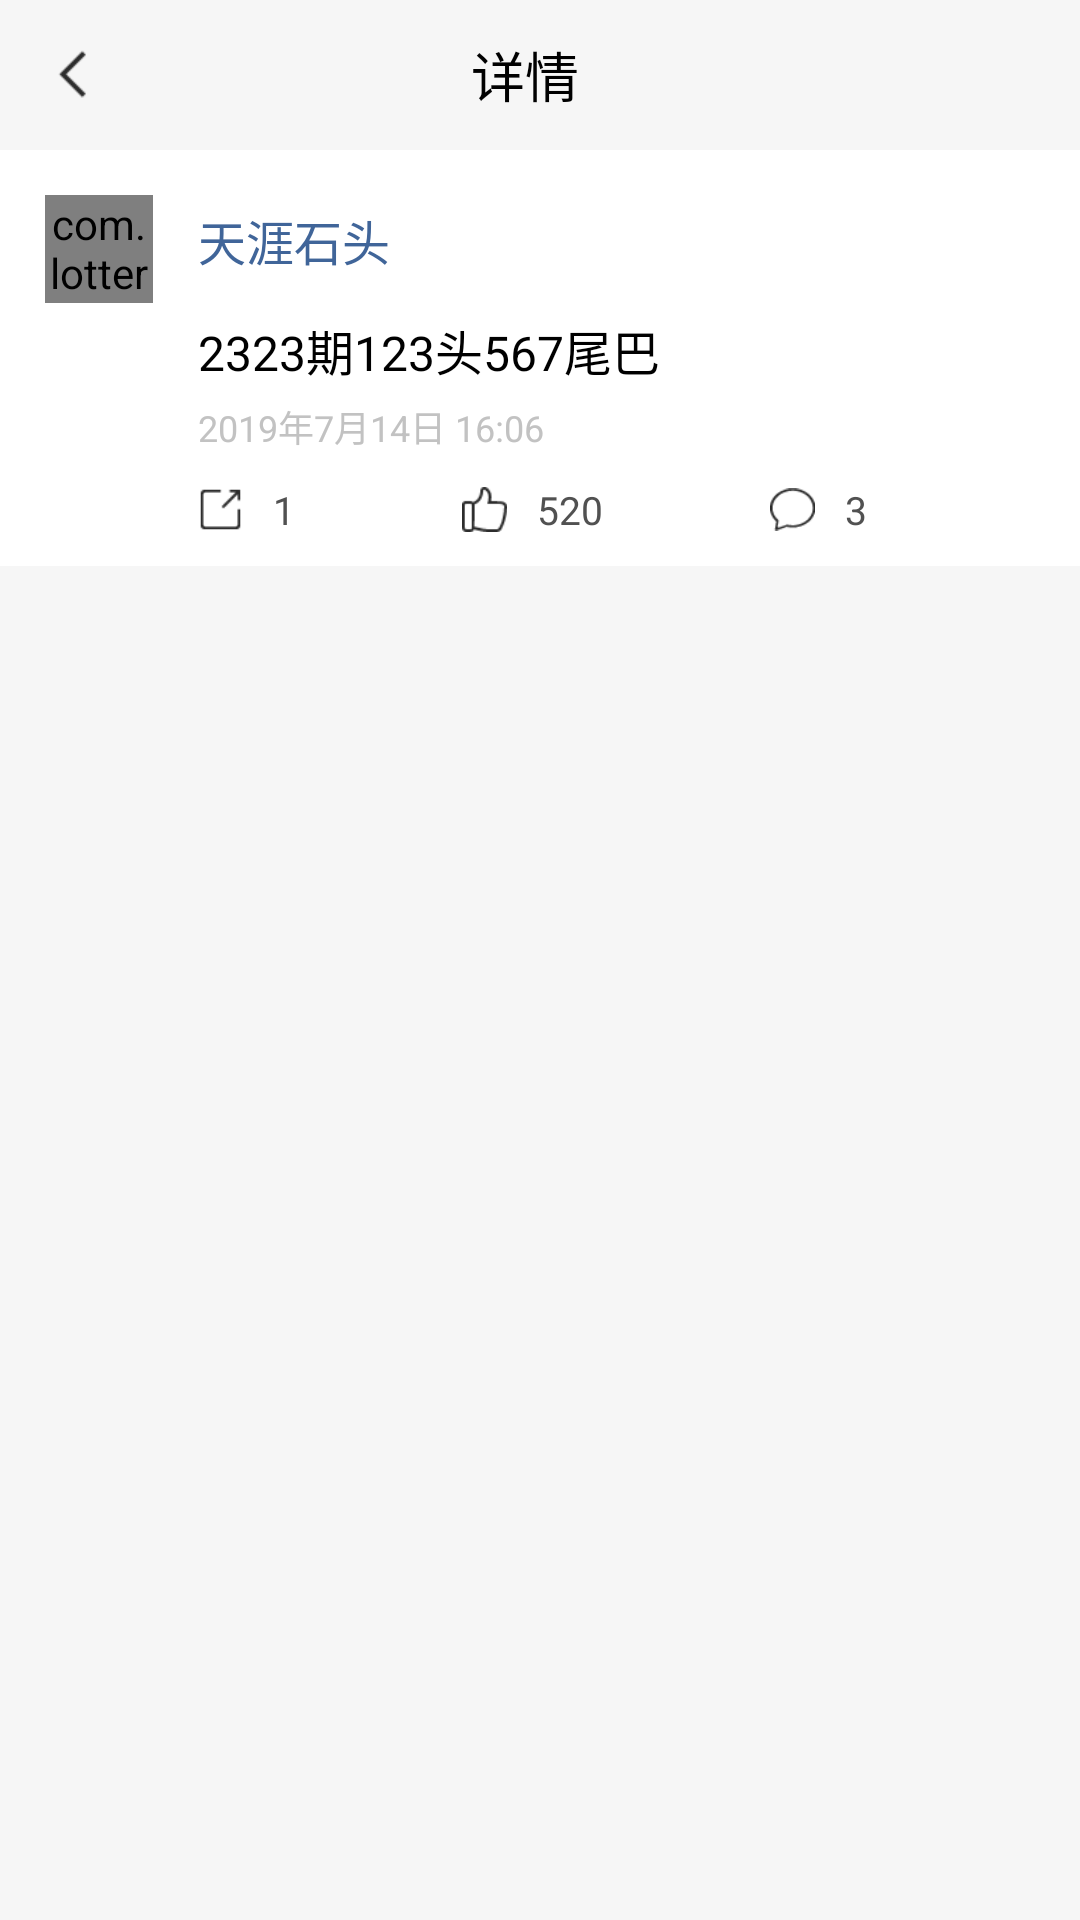

Where icons sit on this 1080x1920 app screen, as (x1, y1, x2, y2):
follow up: (770, 488, 815, 531)
good: (462, 487, 507, 532)
share: (200, 489, 241, 530)
